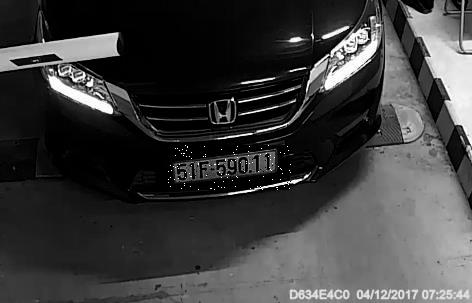License-plate: (169, 146, 293, 191)
